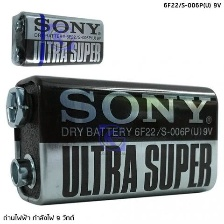battery: (5, 74, 219, 207), (6, 9, 106, 69)
